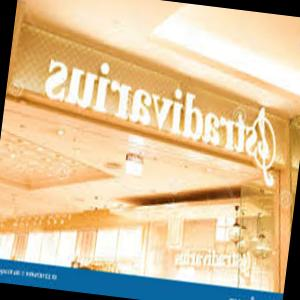stradivarius: (21, 34, 300, 196)
